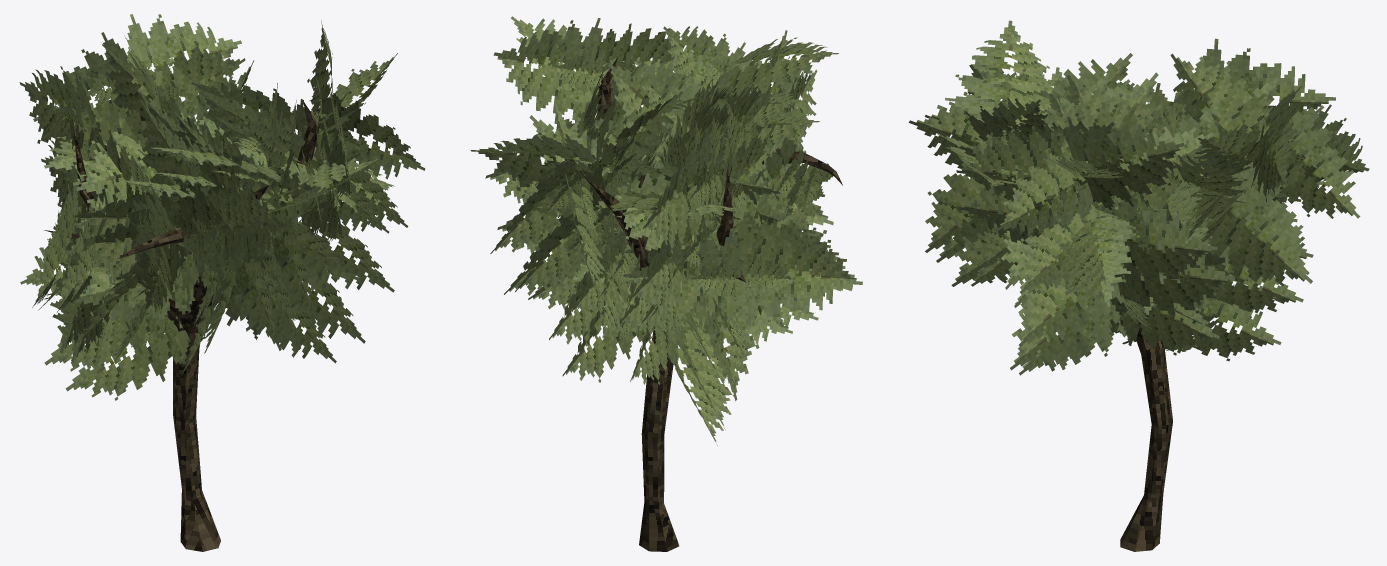
File: tree.obj
3 renders of one model, left to right at view 1: azimuth 30°, elevation 25°; view 2: azimuth 150°, elevation 25°; view 3: azimuth 270°, elevation 25°, orthographic.
Visible parts, largest first — view 1: tree, Plane.001; view 2: tree, Plane.001; view 3: tree, Plane.001.
Part boxes in pixels (box(x1,y1,x2,y2)): tree: box(19, 14, 425, 551); Plane.001: box(43, 47, 363, 348); tree: box(470, 16, 862, 551); Plane.001: box(537, 50, 827, 371); tree: box(908, 20, 1369, 551); Plane.001: box(969, 89, 1317, 316).
Bounding box in the file's own units: 9.29 × 11.45 × 10.1.
